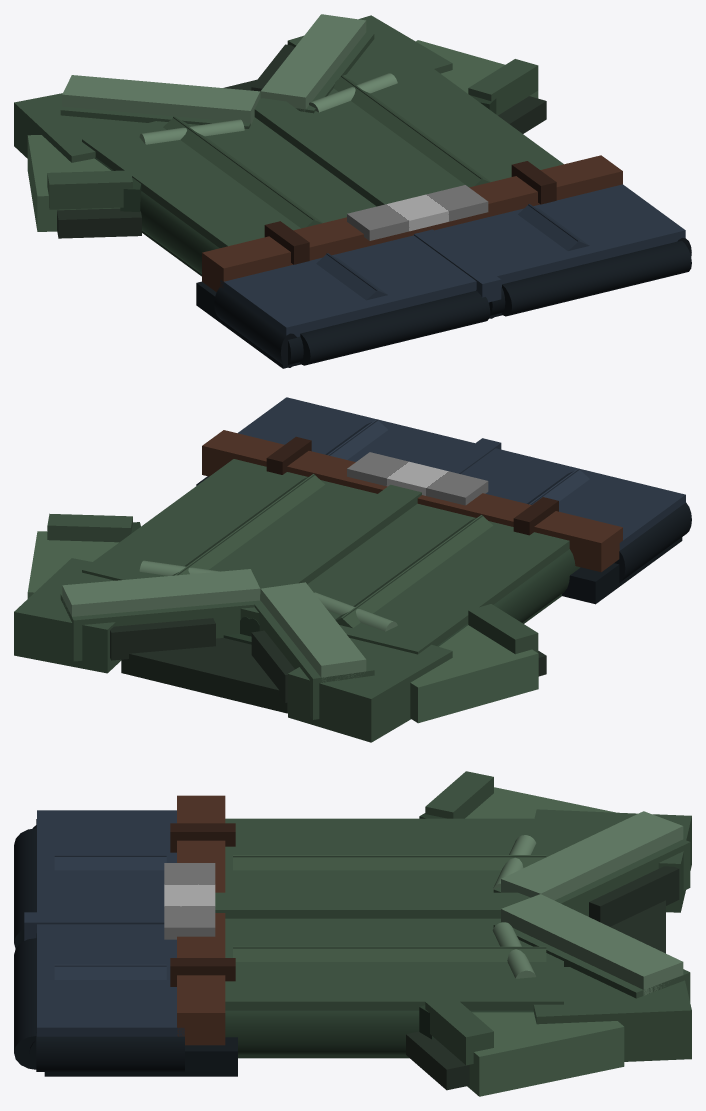
The model's file is CMU3DAU14CivilianWorkwearGreenWorldCloud.glb.
3 views of the same model, one above another, from view 1: azimuth 30°, elevation 25°; view 2: azimuth 150°, elevation 25°; view 3: azimuth 270°, elevation 25° (orthographic). The views are drawn at different scales.
Parts seen in each view (by area): view 1: left shirt front continuous cloth panel, right shirt front continuous cloth panel, left folded trouser panel continuous cloth panel, right folded trouser panel continuous cloth panel, continuous attached waist belt, left turned collar face, right turned trouser hem, left turned trouser hem, continuous center button placket, right turned collar face, original small waist clasp, left continuous shoulder cloth (+24 smaller); view 2: left shirt front continuous cloth panel, right shirt front continuous cloth panel, continuous attached waist belt, left continuous shoulder cloth, left folded trouser panel continuous cloth panel, left sloping sleeve cloth, right folded trouser panel continuous cloth panel, recessed inner neck facing, right turned collar face, right continuous shoulder cloth, left turned collar face, continuous center button placket (+22 smaller); view 3: right shirt front continuous cloth panel, left shirt front continuous cloth panel, right folded trouser panel continuous cloth panel, left folded trouser panel continuous cloth panel, right sloping sleeve cloth, right shirt front right turned edge, right continuous shoulder cloth, continuous center button placket, continuous attached waist belt, right turned collar face, left turned collar face, right folded trouser panel right turned edge (+25 smaller).
Boxes of the visible parts, x1,y1,x2,y2 form: left shirt front continuous cloth panel: (82, 117, 376, 247); right shirt front continuous cloth panel: (300, 57, 563, 196); left folded trouser panel continuous cloth panel: (220, 235, 476, 363); right folded trouser panel continuous cloth panel: (434, 184, 685, 314); continuous attached waist belt: (202, 155, 622, 291); left turned collar face: (62, 75, 260, 124); right turned trouser hem: (501, 241, 691, 316); left turned trouser hem: (299, 291, 490, 365); continuous center button placket: (254, 98, 416, 206); right turned collar face: (260, 14, 366, 111); original small waist clasp: (347, 185, 488, 240); left continuous shoulder cloth: (14, 93, 146, 162); left shirt front continuous cloth panel: (250, 503, 569, 654); right shirt front continuous cloth panel: (82, 459, 377, 619); continuous attached waist belt: (202, 430, 622, 572); left continuous shoulder cloth: (288, 638, 452, 742); left folded trouser panel continuous cloth panel: (460, 448, 685, 550); left sloping sleeve cloth: (410, 625, 538, 723); right folded trouser panel continuous cloth panel: (237, 397, 474, 468); recessed inner neck facing: (121, 638, 287, 713); right turned collar face: (62, 569, 260, 616); right continuous shoulder cloth: (14, 558, 121, 673); left turned collar face: (260, 582, 366, 682); continuous center button placket: (257, 484, 421, 600); right shirt front continuous cloth panel: (225, 918, 563, 1010); left shirt front continuous cloth panel: (225, 818, 563, 892); right folded trouser panel continuous cloth panel: (37, 924, 184, 1036); left folded trouser panel continuous cloth panel: (37, 810, 176, 912); right sloping sleeve cloth: (467, 1012, 624, 1096); right shirt front right turned edge: (225, 1010, 533, 1054); right continuous shoulder cloth: (533, 967, 691, 1061); continuous center button placket: (215, 892, 530, 918); continuous attached waist belt: (177, 795, 225, 1045); right turned collar face: (501, 894, 683, 995); left turned collar face: (501, 811, 683, 900); right folded trouser panel right turned edge: (36, 1032, 184, 1071).
Size of the model in its own units: 0.3961 by 0.05 by 0.4159.
Materials: 10 (1 with a texture image).
